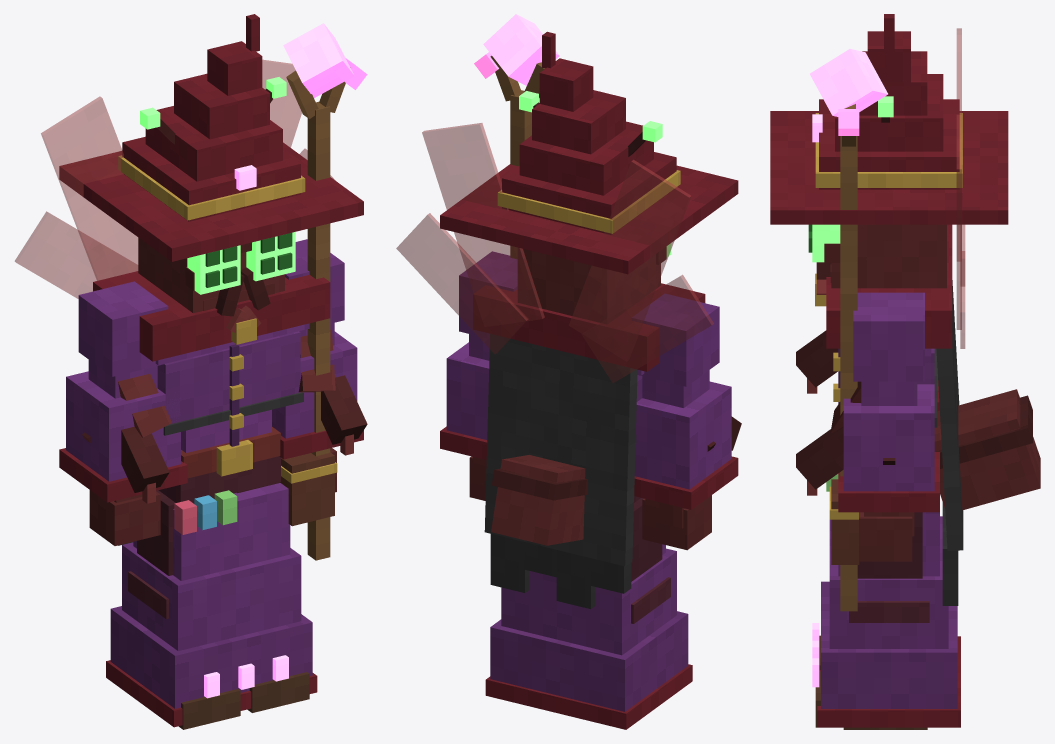
Rendered from insectoid_mage.glb.
The picture shows the model from 3 angles, left to right: view 1: azimuth 30°, elevation 25°; view 2: azimuth 150°, elevation 25°; view 3: azimuth 270°, elevation 25°; orthographic projection. The views are drawn at different scales.
Parts seen in each view (by area): view 1: Torso, Head, Root, ArmR, HandL, ArmL, LegR, LegL; view 2: Torso, Head, Root, ArmR, ArmL, HandL, LegR; view 3: Head, Torso, ArmL, Root, HandL, LegL.
Part boxes in pixels (<box>): Torso: <box>15,59,367,545</box>; Head: <box>59,14,363,333</box>; Root: <box>106,483,317,727</box>; ArmR: <box>59,281,187,545</box>; HandL: <box>283,23,367,560</box>; ArmL: <box>272,239,363,492</box>; LegR: <box>128,490,240,729</box>; LegL: <box>237,482,309,712</box>; Torso: <box>396,123,741,609</box>; Head: <box>440,31,738,323</box>; Root: <box>485,544,692,729</box>; ArmR: <box>632,293,738,550</box>; ArmL: <box>440,251,517,500</box>; HandL: <box>474,14,559,258</box>; LegR: <box>631,498,670,623</box>; Head: <box>770,14,1008,294</box>; Torso: <box>796,28,1040,605</box>; ArmL: <box>838,292,939,561</box>; Root: <box>812,512,960,727</box>; HandL: <box>810,49,887,611</box>; LegL: <box>815,512,929,729</box>.
Bounding box in the file's own units: 1.12 × 2.21 × 0.7727.
39 materials, 39 textured.
